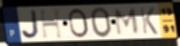H: (38, 8, 65, 40)
J: (20, 9, 42, 41)
K: (139, 6, 160, 36)
M: (114, 7, 140, 36)
O: (89, 6, 113, 39), (68, 8, 91, 40)
